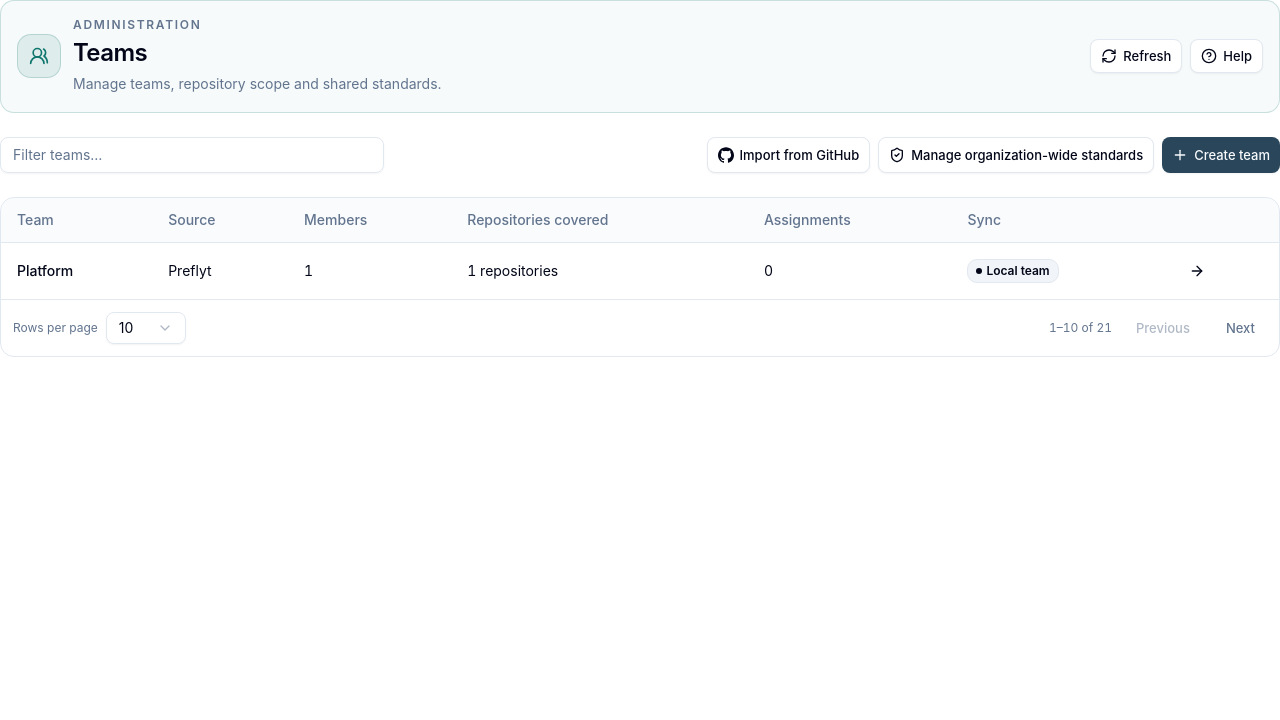
it: keeps the editor usable at mobile width and exposes effective impact
This screenshot has width=1280, height=720.
Click the button "Create team". click: [1221, 155]
box: [1162, 137, 1279, 173]
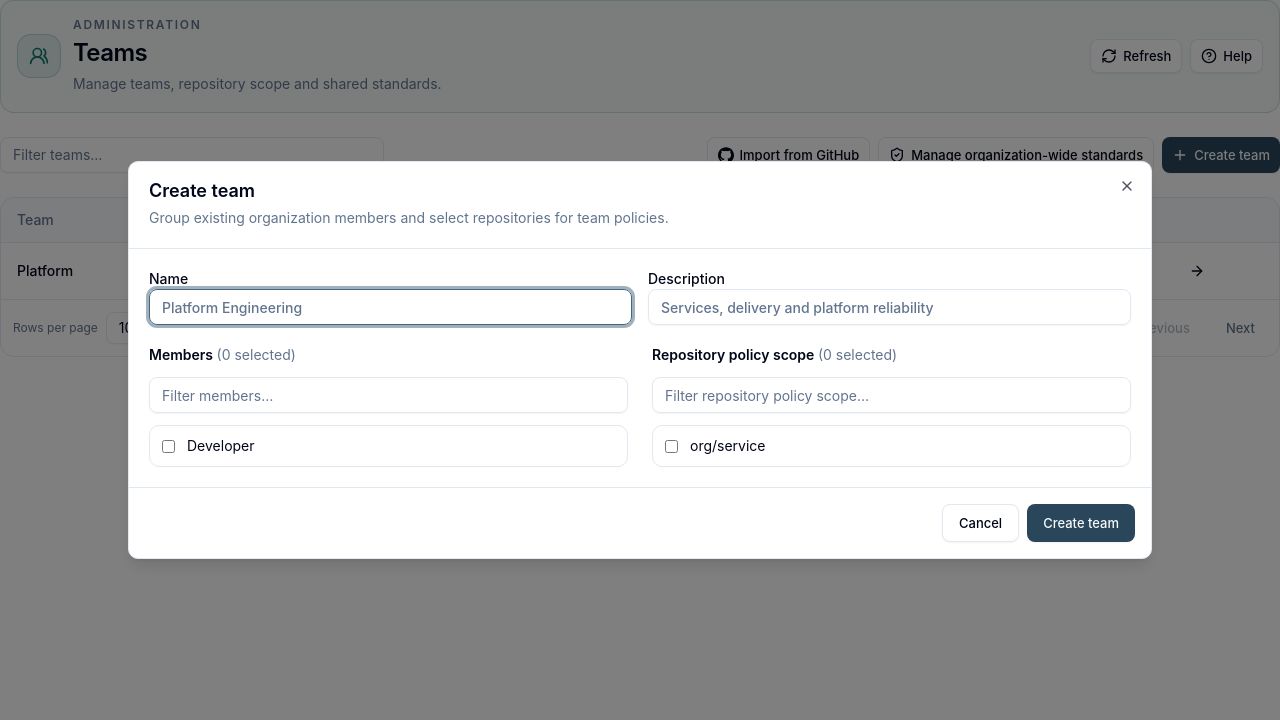
Expected: the field labelled "Name" is shown, [149, 289, 632, 325]
Expected: the button "Cancel" is shown
Click the button "Cancel". click: [981, 523]
box: [942, 504, 1019, 542]
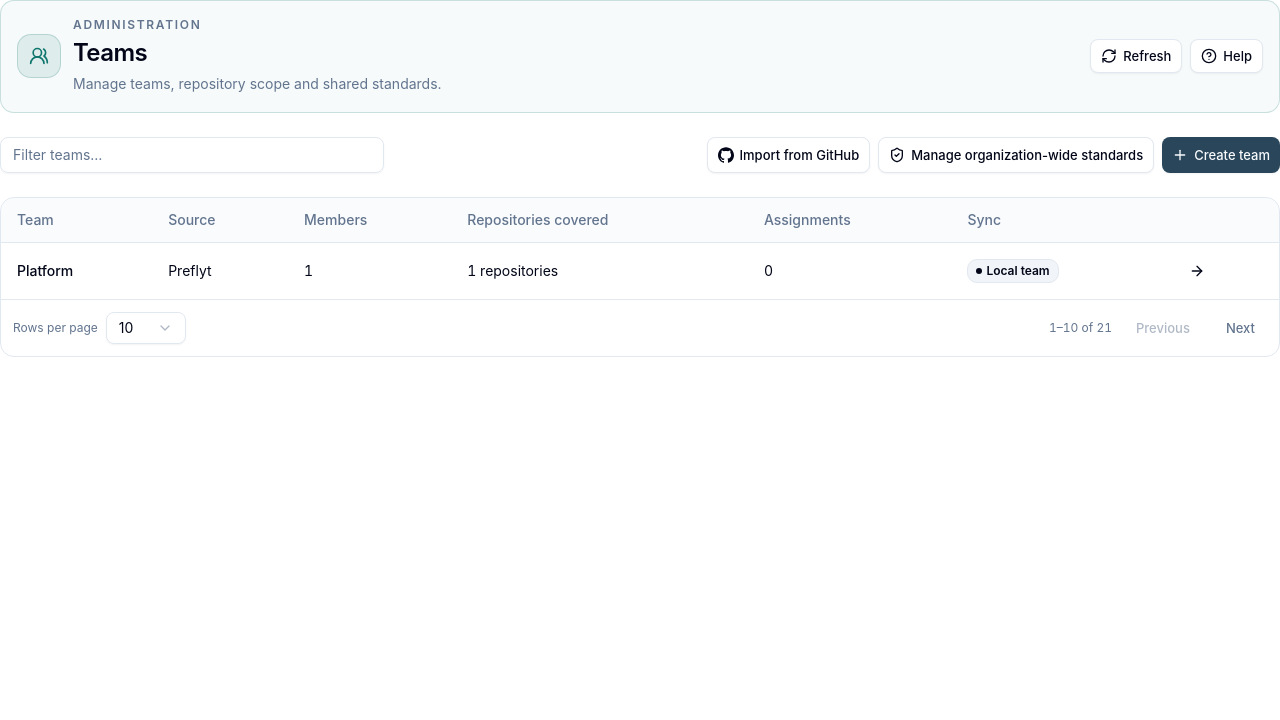
Click the button "Platform". click: [45, 271]
box: [17, 261, 73, 281]
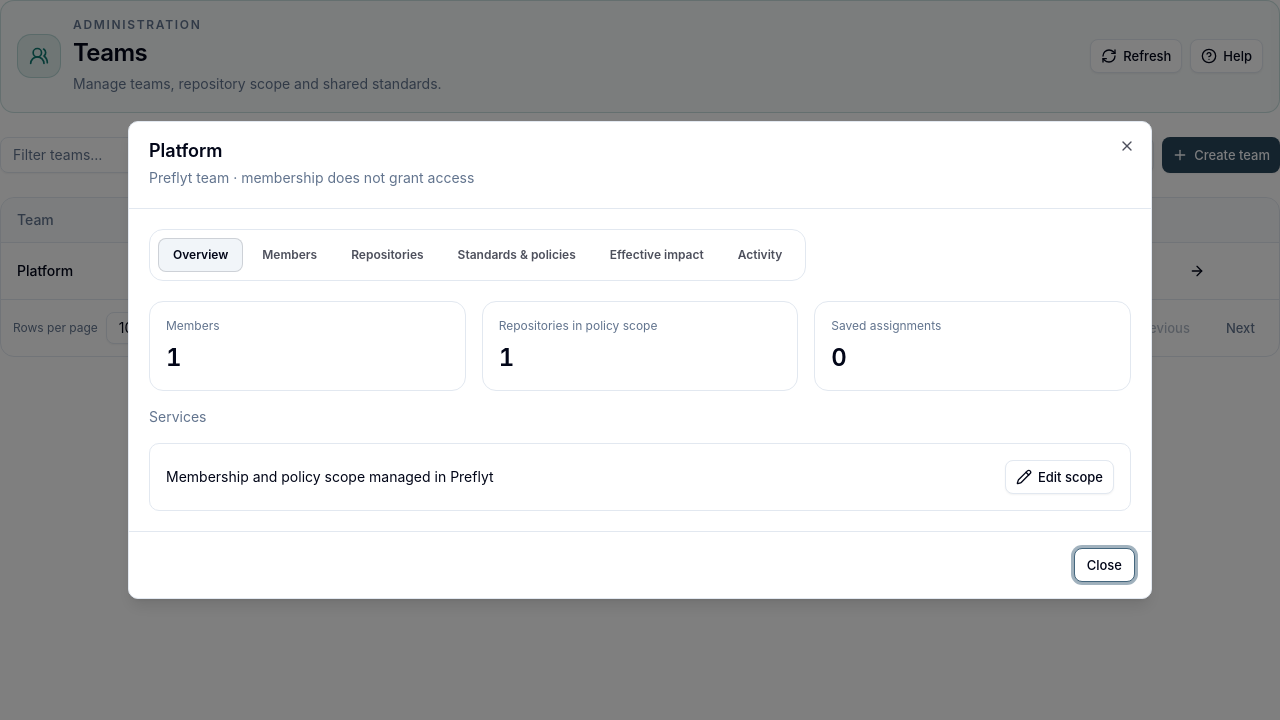
Click the tab "Effective impact". click: [657, 255]
box: [595, 238, 719, 272]
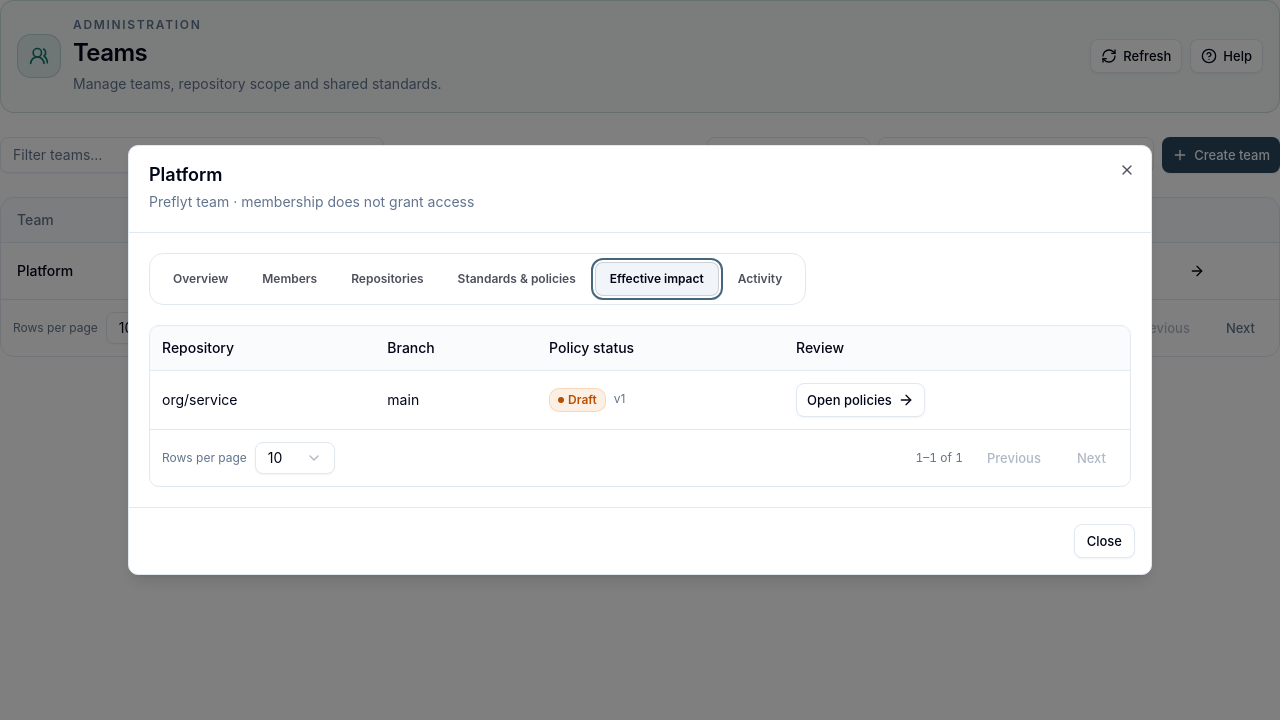
Expected: the text "org/service" is shown, [150, 370, 375, 429]
Expected: the link "Open policies" is shown, [796, 383, 925, 417]
